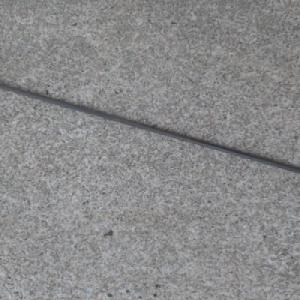LuggagePart: (0, 82, 300, 174)
